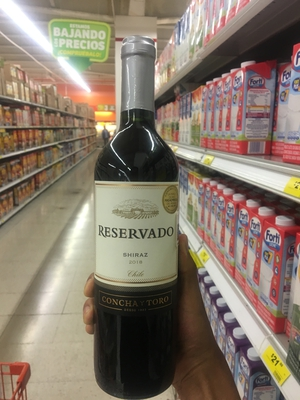reservado shiraz: (89, 26, 192, 400)
